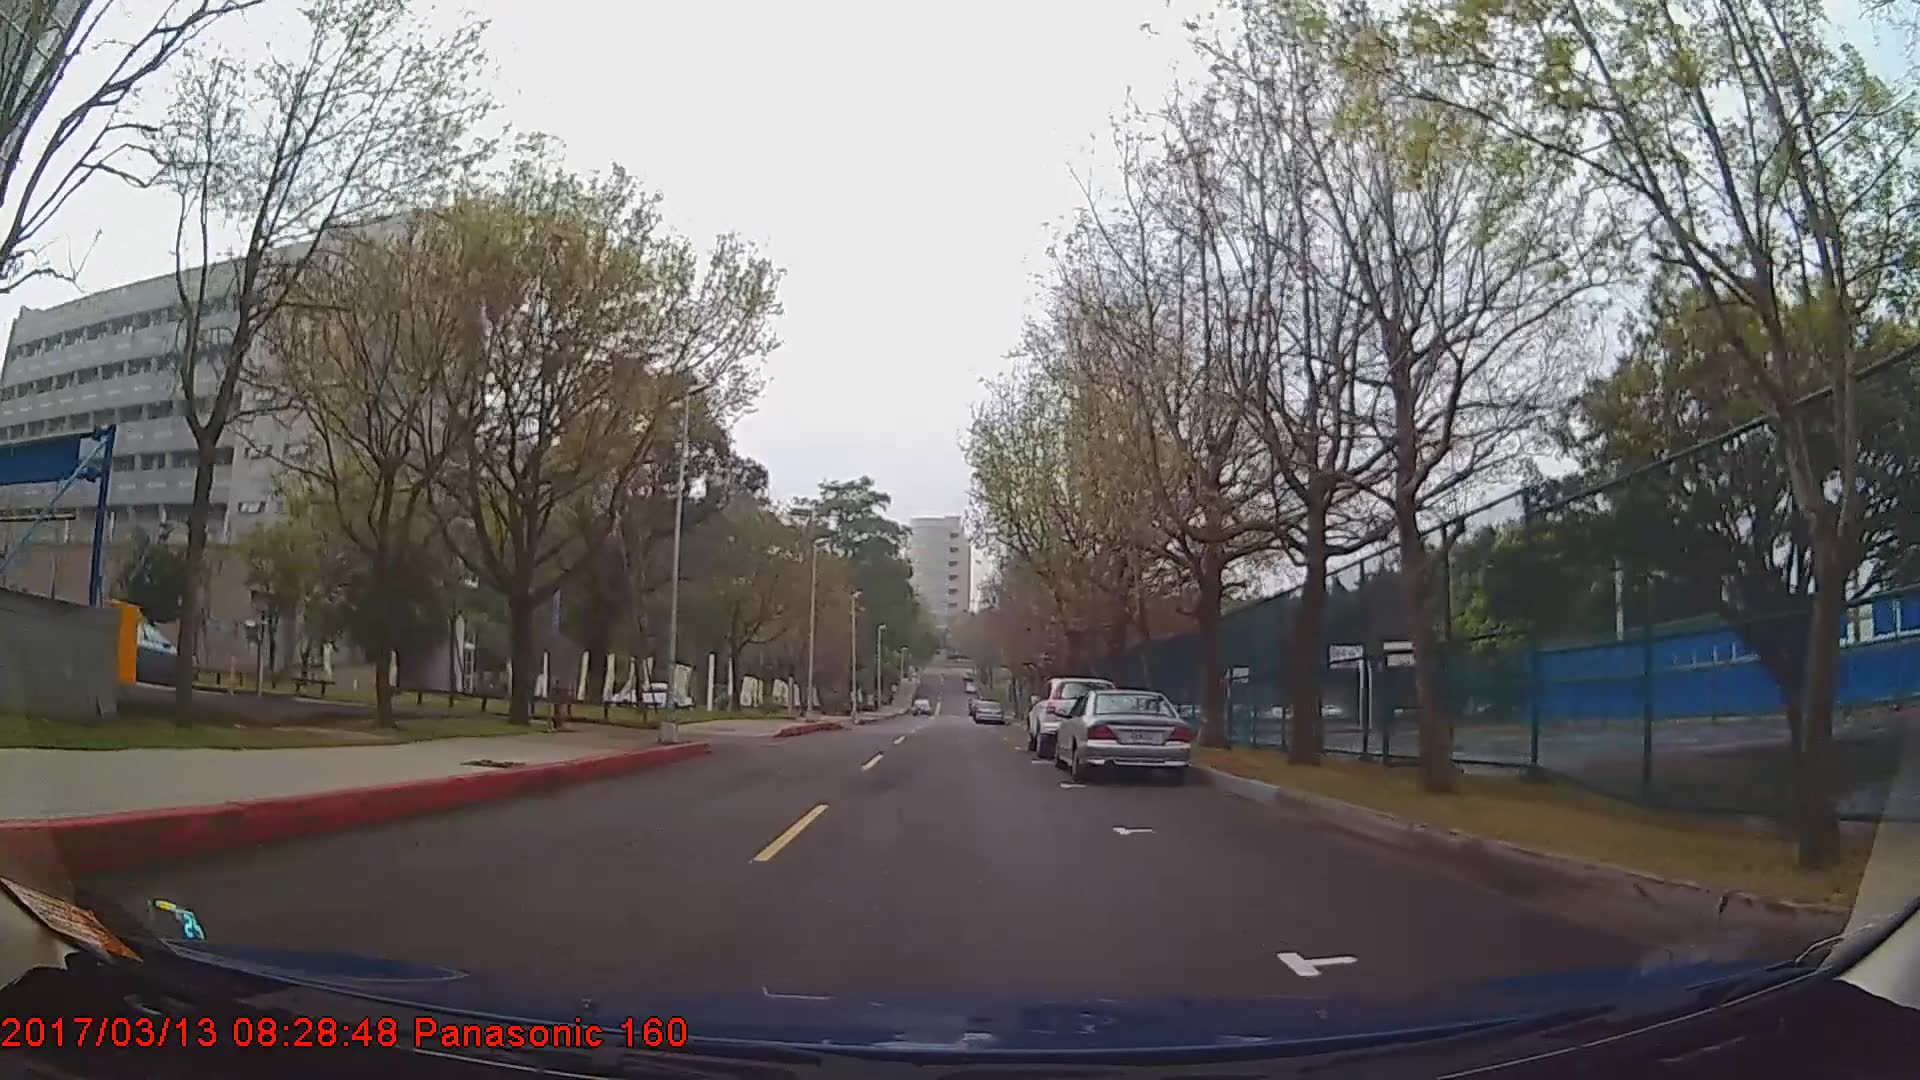vehicle: (1054, 686, 1192, 777), (82, 617, 199, 687), (1026, 671, 1117, 752), (615, 680, 694, 711)
